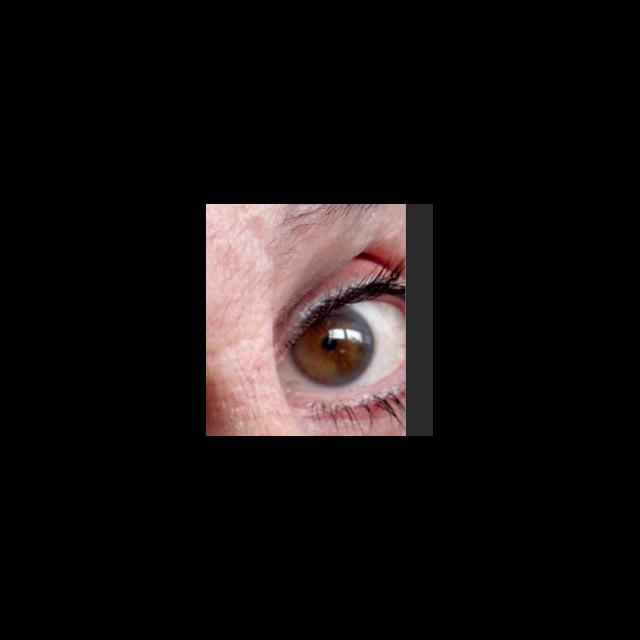eye: (281, 302, 406, 397)
iris: (292, 306, 376, 385)
